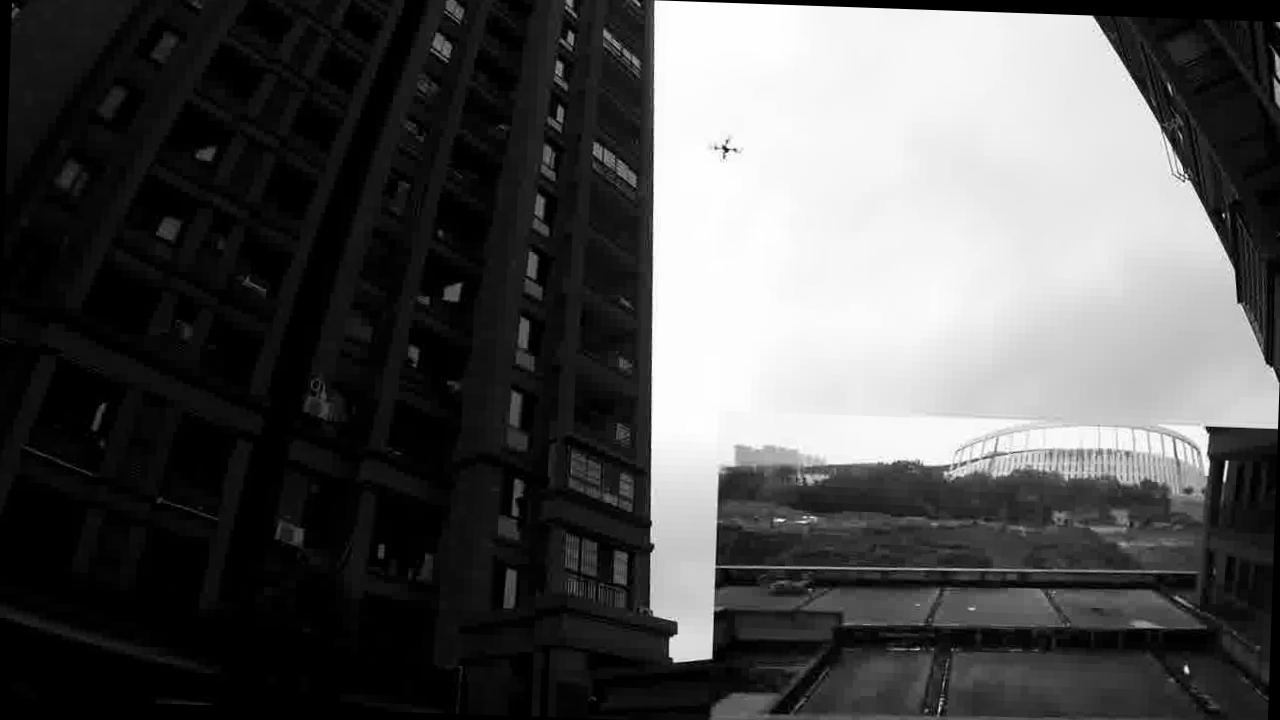drone: (706, 132, 745, 162)
